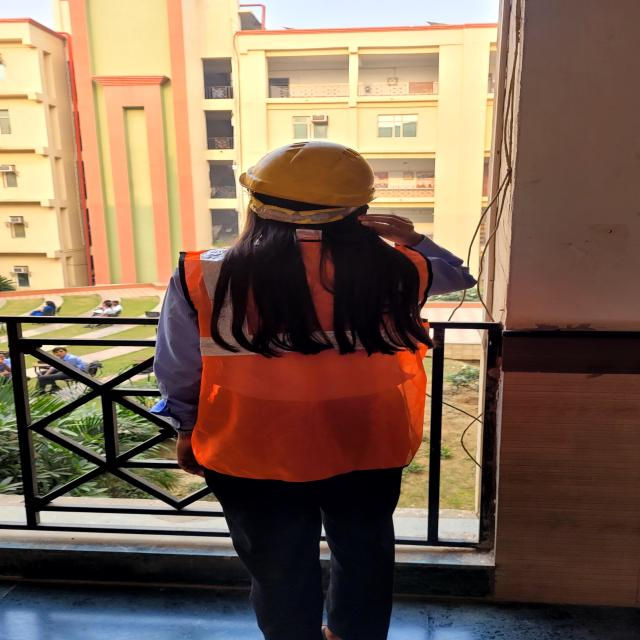safe: (153, 137, 465, 640)
